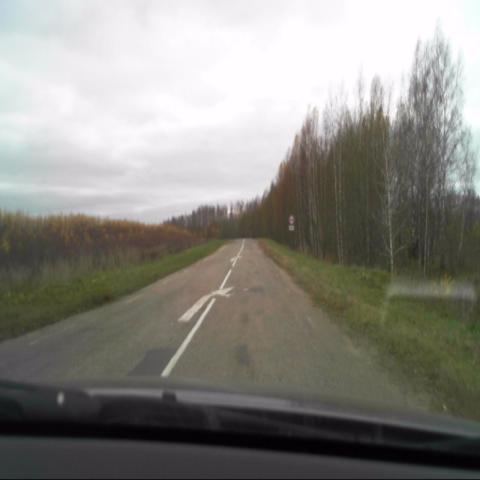3_20: (288, 212, 295, 224)
